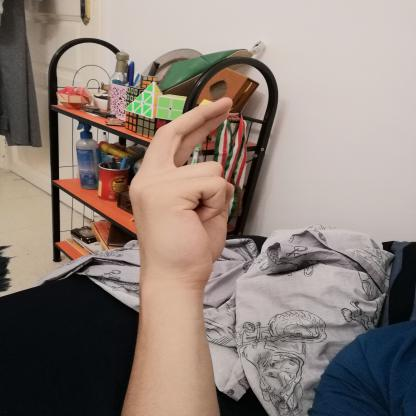ZAY: (118, 87, 250, 288)
